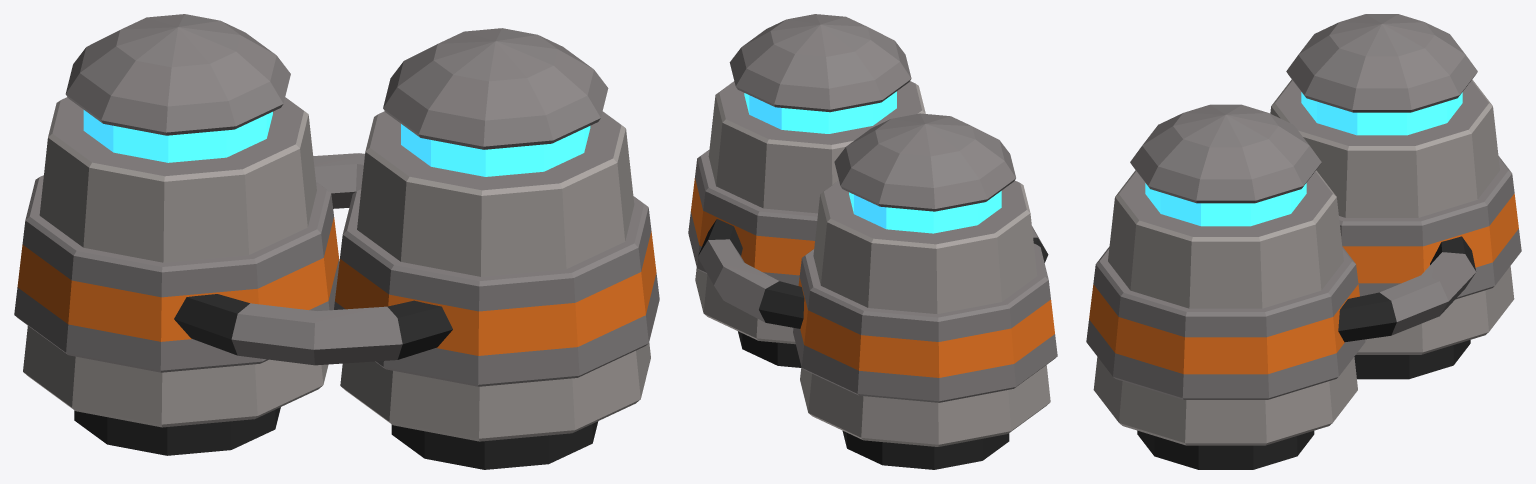
File: scifi_scifi-generator-double-small.fbx
The picture shows the model from 3 angles, left to right: view 1: azimuth 30°, elevation 25°; view 2: azimuth 150°, elevation 25°; view 3: azimuth 270°, elevation 25°; orthographic projection. The views are drawn at different scales.
Parts seen in each view (by area): view 1: scifi_scifi_generator_double_small; view 2: scifi_scifi_generator_double_small; view 3: scifi_scifi_generator_double_small.
Part boxes in pixels (x1=…): scifi_scifi_generator_double_small: x1=14, y1=14, x2=659, y2=469; scifi_scifi_generator_double_small: x1=688, y1=14, x2=1057, y2=469; scifi_scifi_generator_double_small: x1=1086, y1=14, x2=1521, y2=469.
Size of the model in its own units: 200 by 147 by 181.
